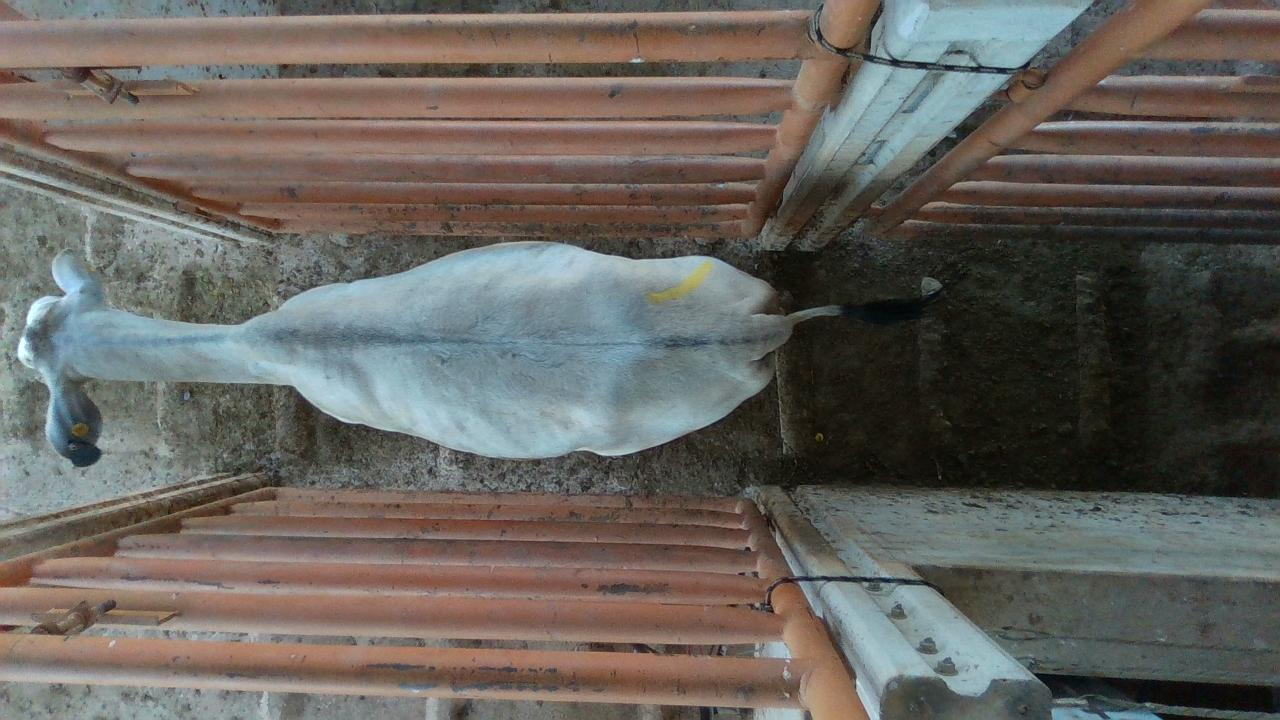cattle: (16, 238, 945, 464)
